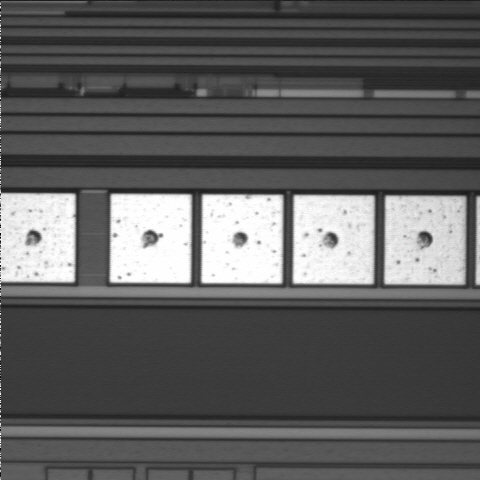pad: (201, 195, 283, 284), (110, 194, 191, 283), (293, 195, 374, 284), (384, 196, 465, 284)
